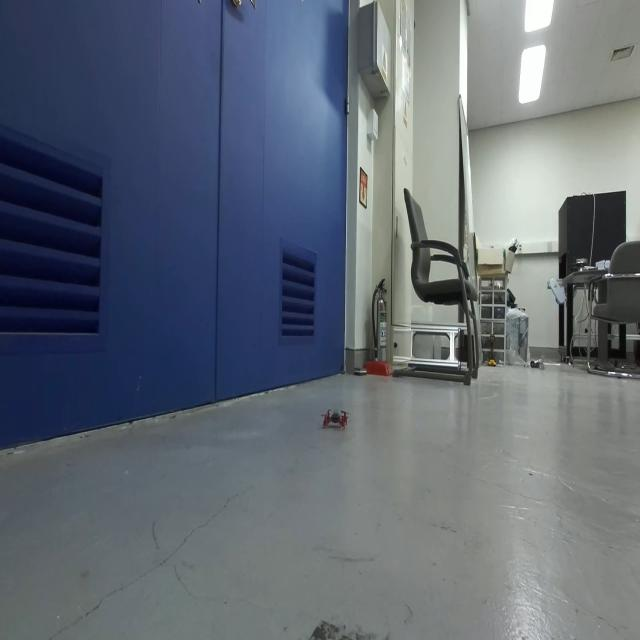crazyflie: (321, 402, 352, 433)
